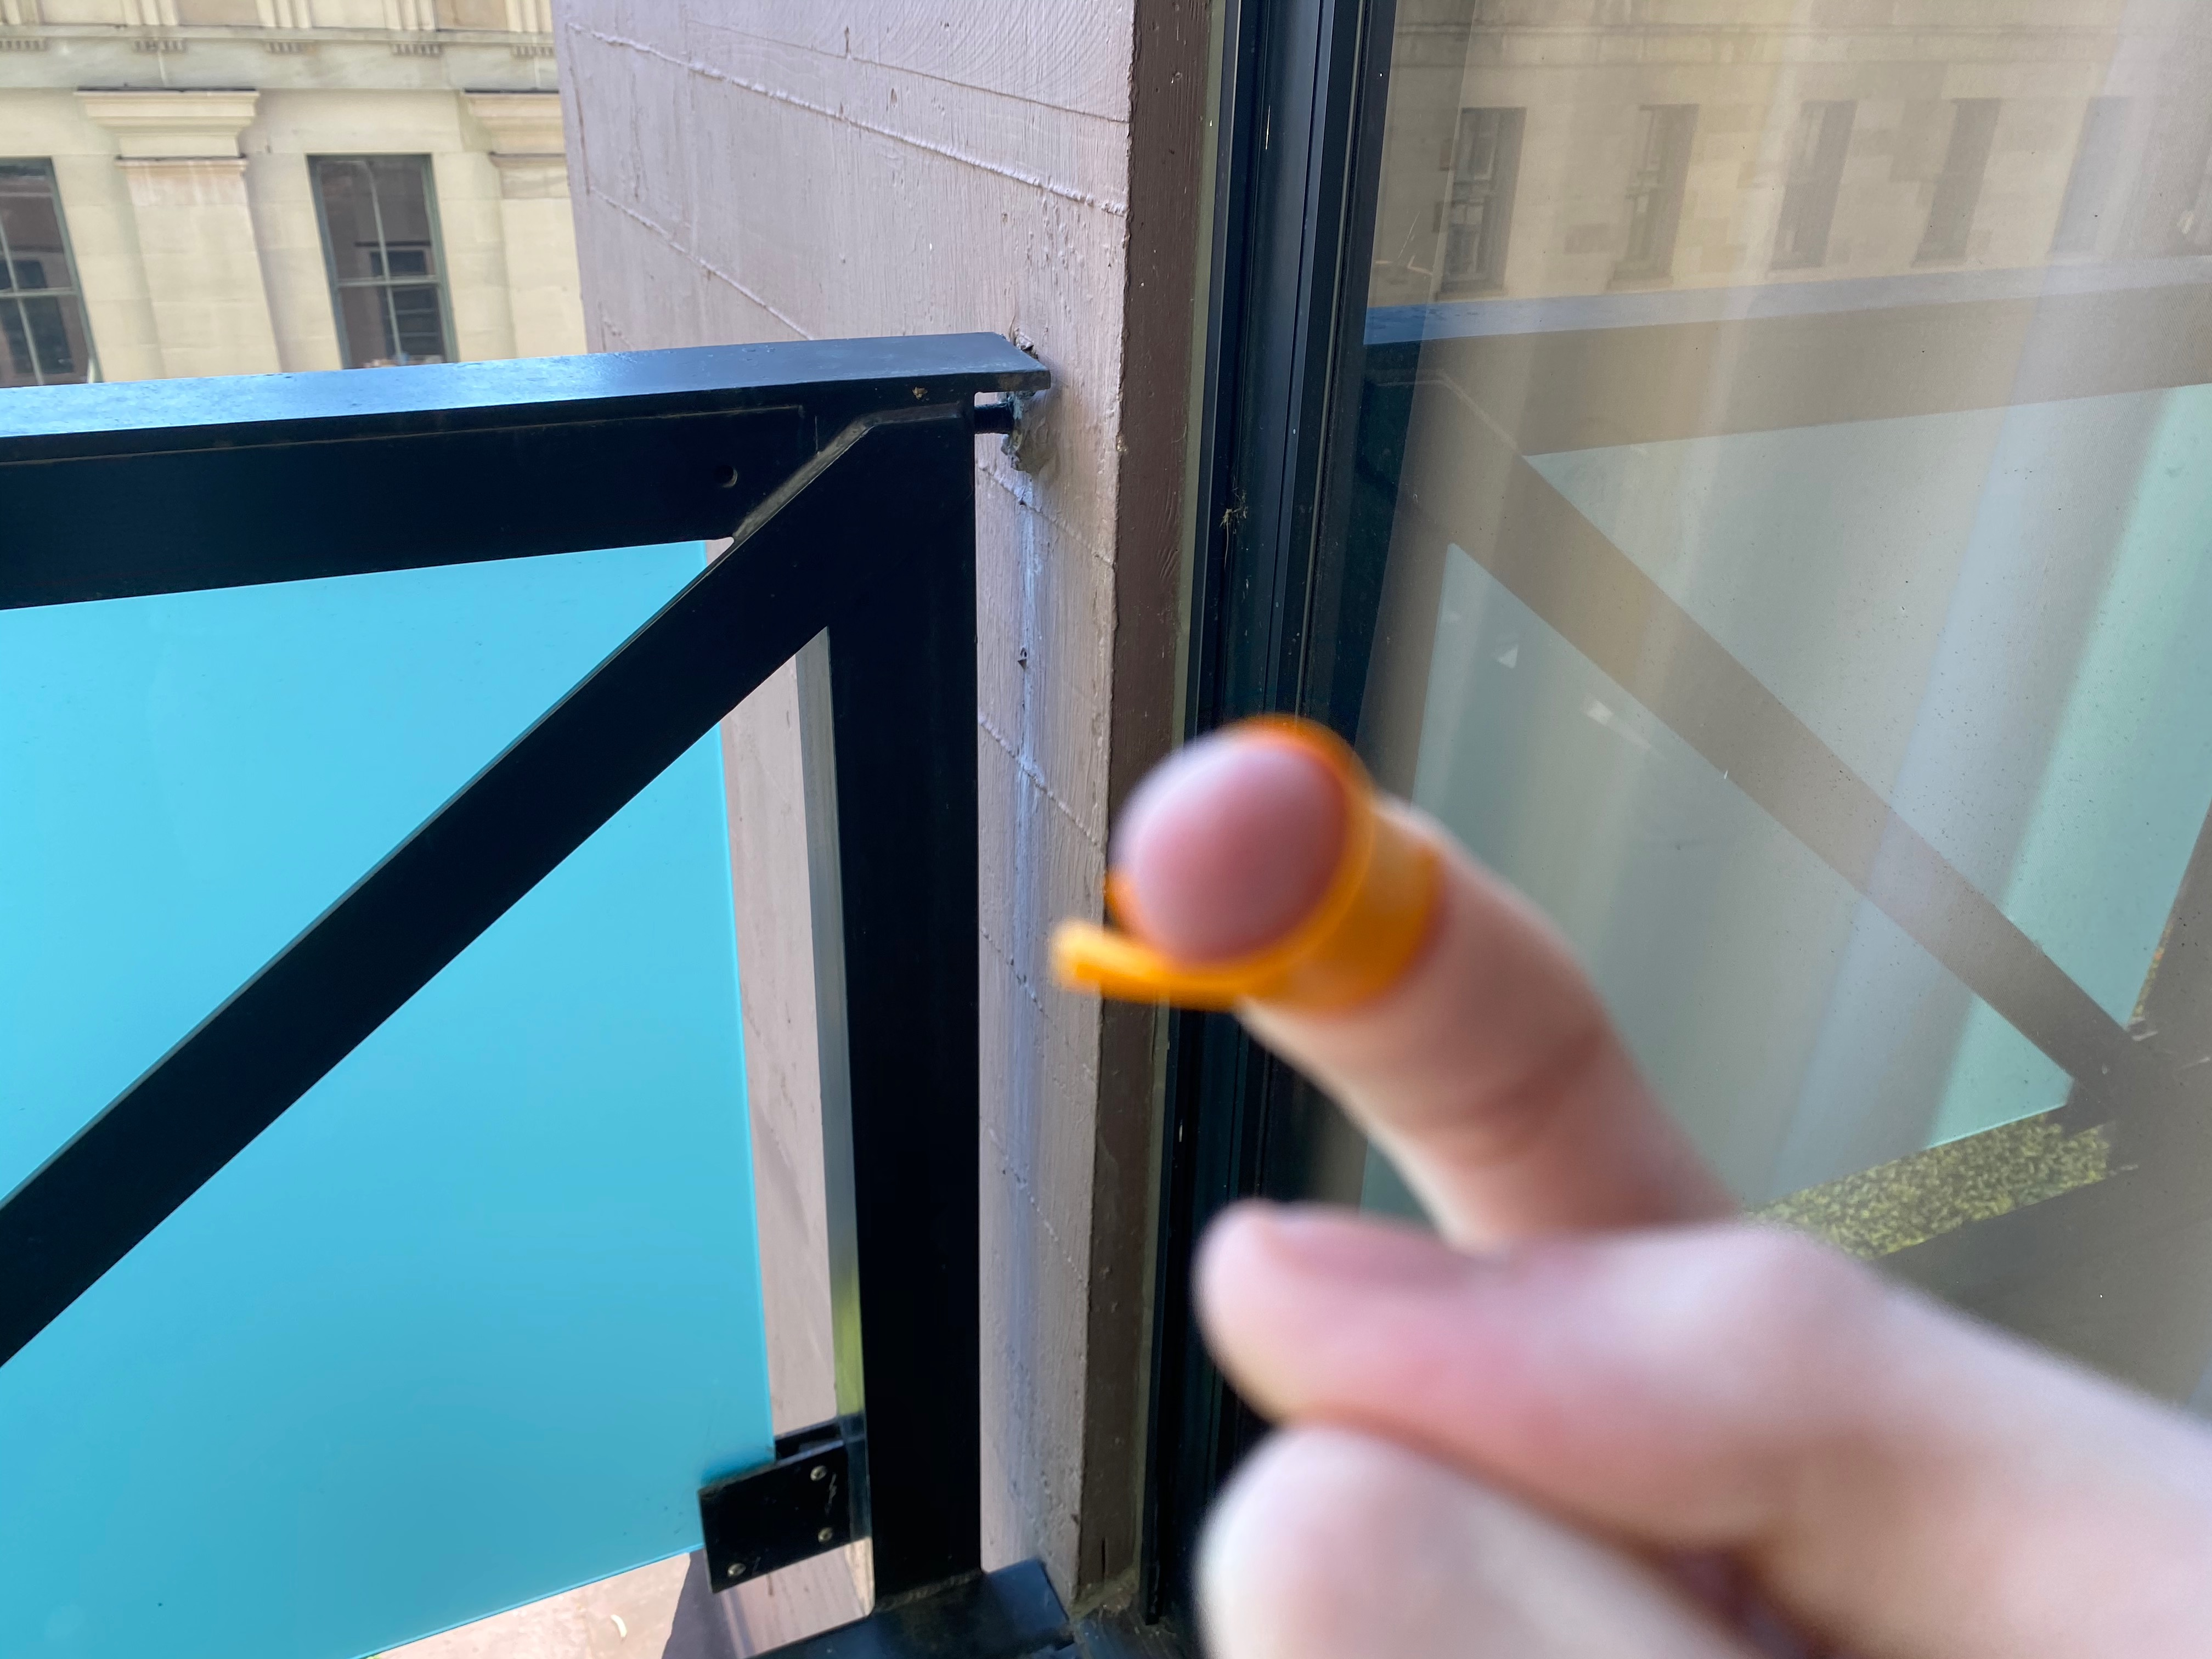fingertip: (1078, 706, 1460, 1077)
